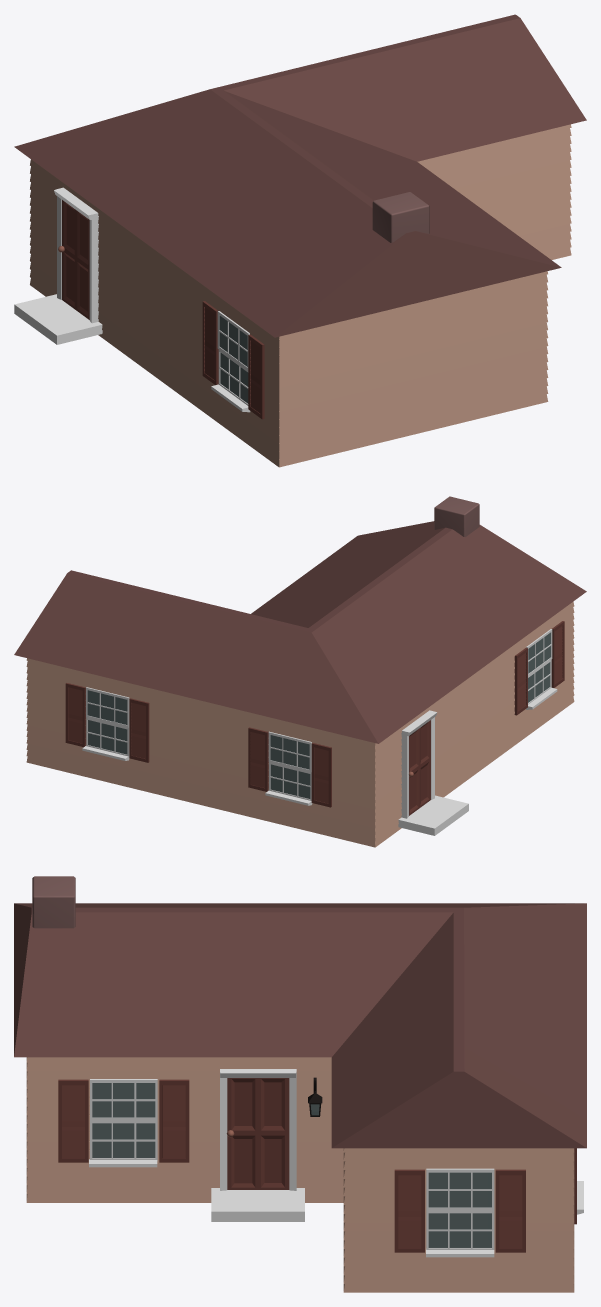
Rendered from tiffany_house.fbx.
3 renders of one model, top to bottom at view 1: azimuth 30°, elevation 25°; view 2: azimuth 150°, elevation 25°; view 3: azimuth 270°, elevation 25°, orthographic. The views are drawn at different scales.
Visible parts, largest first — view 1: house2_base1, front_door, front_door_stoop, chimney1, front_door_frame, window_panel_r, window_panel_l, window_glass, window_glass1, window_boxes; view 2: house2_base1, window_panel_l (×3), window_panel_r (×3), window_glass (×3), window_glass1 (×3), front_door, front_door_stoop, chimney1, front_door_frame, window_boxes (×2), window_boxes1 (×2); view 3: house2_base1, front_door, window_panel_l (×2), window_panel_r (×2), window_glass (×2), window_glass1 (×2), front_door_stoop, front_door_frame, chimney1, window_boxes (×2), window_boxes1 (×2), sill_3 (+1 smaller).
Part boxes in pixels (box(x1,y1,x2,y2)): house2_base1: box(14, 14, 586, 467); front_door: box(62, 200, 89, 319); front_door_stoop: box(14, 294, 102, 344); chimney1: box(372, 192, 429, 242); front_door_frame: box(54, 187, 98, 323); window_panel_r: box(248, 334, 264, 419); window_panel_l: box(202, 301, 218, 384); window_glass: box(219, 315, 247, 366); window_glass1: box(220, 352, 248, 403); window_boxes: box(217, 311, 249, 370); house2_base1: box(14, 521, 586, 847); window_panel_l (×3): box(65, 648, 527, 791); window_panel_r (×3): box(129, 621, 564, 807); window_glass (×3): box(87, 632, 550, 769); window_glass1 (×3): box(88, 662, 549, 798); front_door: box(409, 720, 430, 815); front_door_stoop: box(398, 795, 468, 835); chimney1: box(434, 496, 479, 536); front_door_frame: box(401, 710, 437, 818); window_boxes (×2): box(86, 687, 311, 772); window_boxes1 (×2): box(86, 717, 311, 800); house2_base1: box(14, 903, 586, 1292); front_door: box(227, 1078, 289, 1189); window_panel_l (×2): box(58, 1079, 424, 1252); window_panel_r (×2): box(159, 1079, 525, 1252); window_glass (×2): box(92, 1083, 491, 1207); window_glass1 (×2): box(92, 1123, 491, 1247); front_door_stoop: box(211, 1188, 304, 1221); front_door_frame: box(220, 1069, 296, 1190); chimney1: box(32, 876, 75, 928); window_boxes (×2): box(90, 1079, 494, 1210); window_boxes1 (×2): box(90, 1121, 494, 1249); sill_3: box(89, 1159, 157, 1167).
Size of the model in its own units: 55.35 by 23.97 by 50.86.
